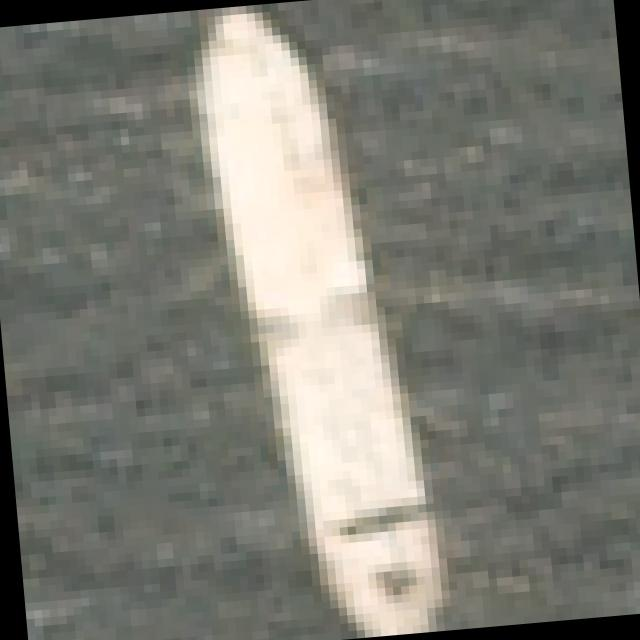ship: (114, 0, 524, 640)
